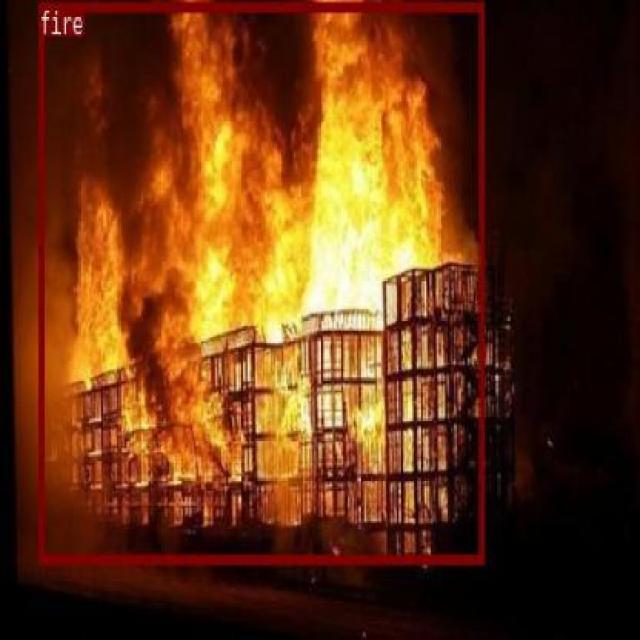fire: (38, 1, 482, 562)
